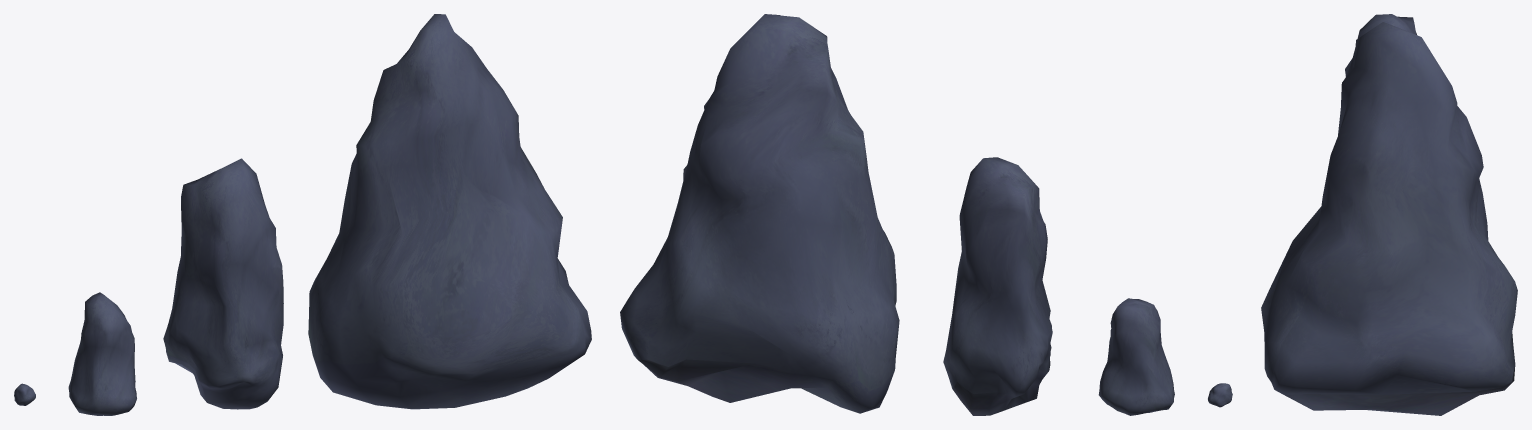
Rendered from vr_rocks.fbx.
3 renders of one model, left to right at view 1: azimuth 30°, elevation 25°; view 2: azimuth 150°, elevation 25°; view 3: azimuth 270°, elevation 25°, orthographic. The views are drawn at different scales.
Parts seen in each view (by area): view 1: Cube.002, Cube.001, Cube; view 2: Cube.002, Cube.001, Cube; view 3: Cube.002, Cube.001.
Part boxes in pixels (x1,y1,x2,y2): Cube.002: [308, 14, 591, 409]; Cube.001: [163, 158, 283, 409]; Cube: [68, 292, 136, 415]; Cube.002: [620, 14, 899, 413]; Cube.001: [943, 157, 1052, 415]; Cube: [1098, 298, 1174, 415]; Cube.002: [1261, 22, 1517, 415]; Cube.001: [1345, 14, 1416, 76].
Bounding box in the file's own units: 1349 × 874 × 538.
